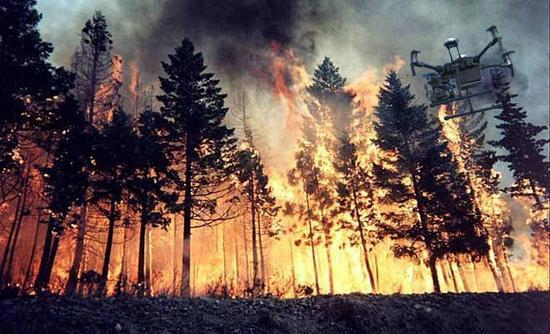fire: (7, 45, 544, 298)
